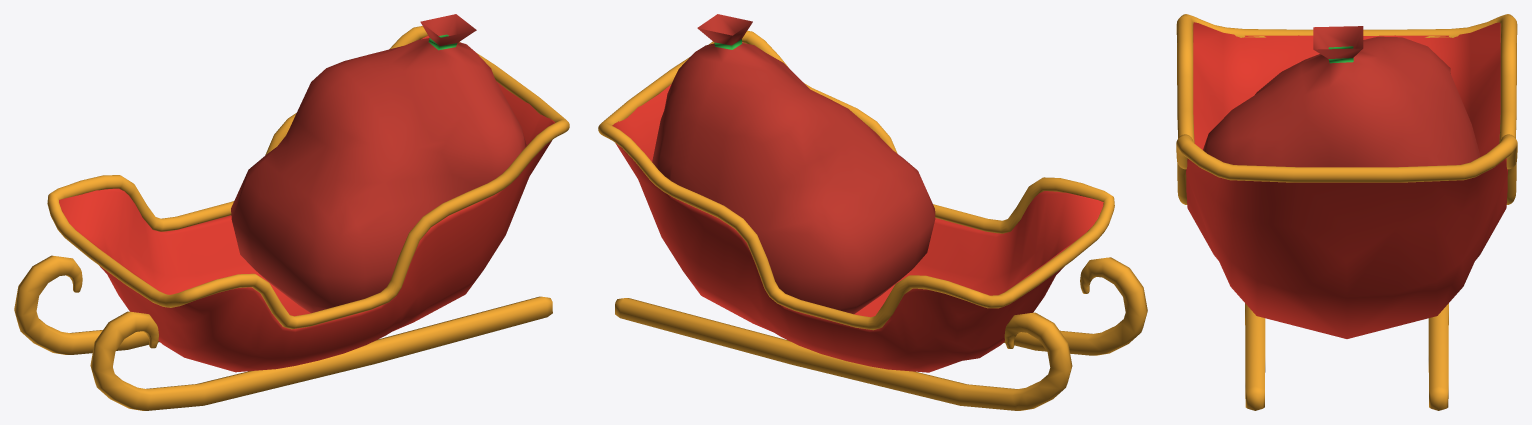
File: trineo.fbx
3 views of the same model, side by side, from view 1: azimuth 30°, elevation 25°; view 2: azimuth 150°, elevation 25°; view 3: azimuth 270°, elevation 25° (orthographic). The views are drawn at different scales.
Visible parts, largest first — view 1: patas.002; view 2: patas.002; view 3: patas.002.
Boxes of the visible parts, <box> form: patas.002: <box>14,14,569,410</box>; patas.002: <box>598,14,1147,410</box>; patas.002: <box>1176,14,1517,410</box>.
Bounding box in the file's own units: 286 × 168 × 151.
